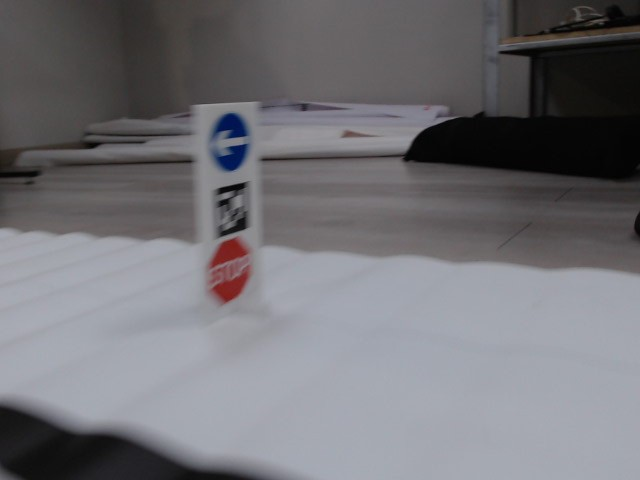Stop: (209, 239, 254, 300)
